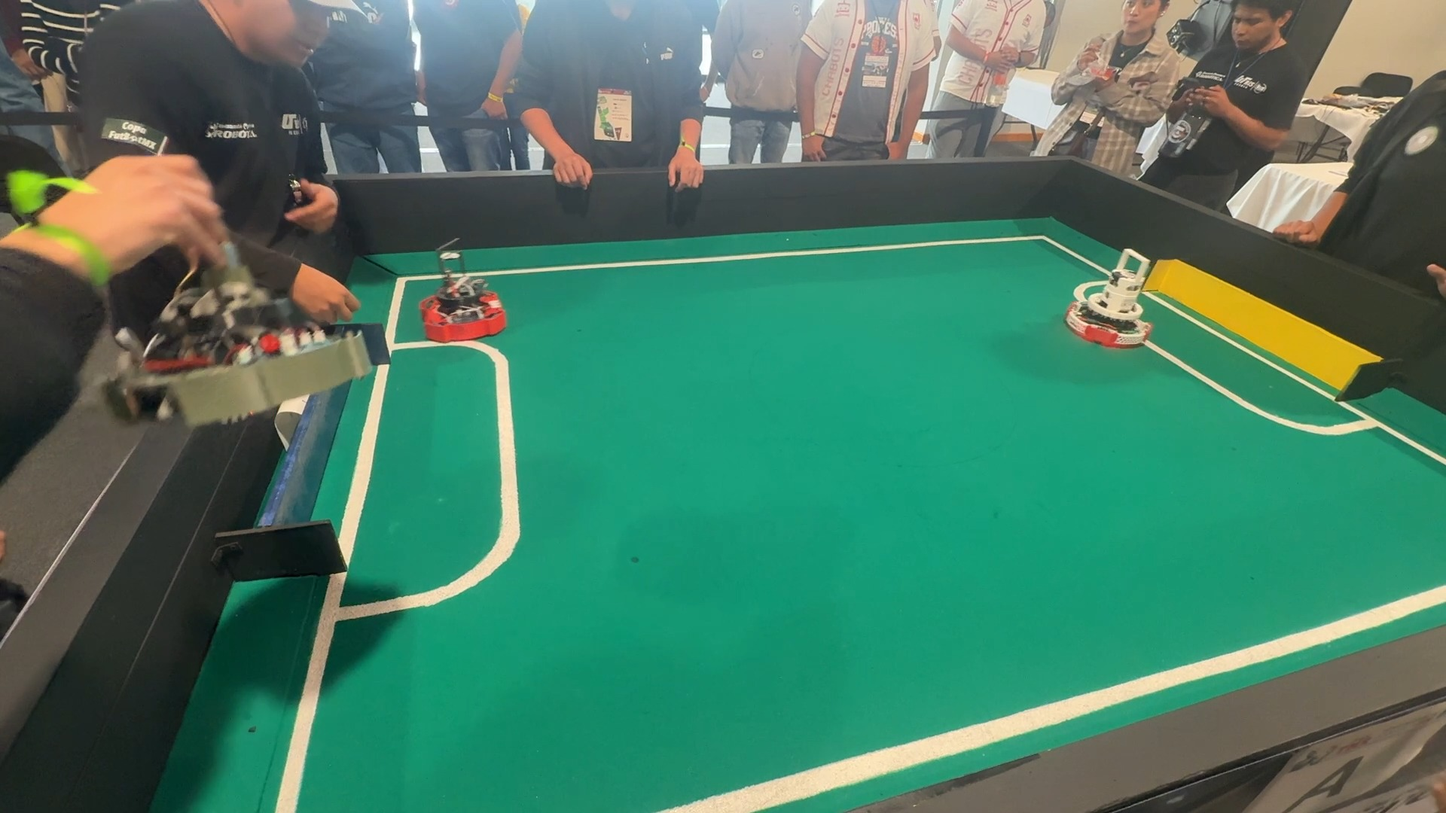Robot: (1050, 244, 1180, 356), (419, 267, 520, 335)
